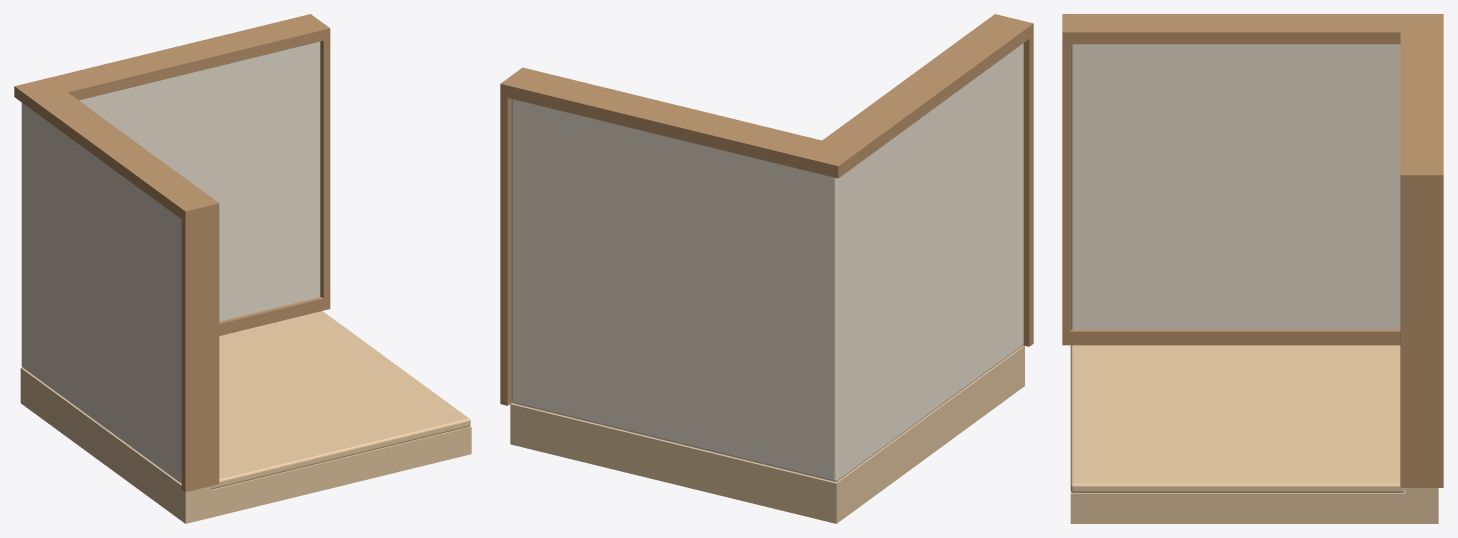
The model's file is bedroom_base.fbx.
3 views of the same model, side by side, from view 1: azimuth 30°, elevation 25°; view 2: azimuth 150°, elevation 25°; view 3: azimuth 270°, elevation 25° (orthographic). The views are drawn at different scales.
Parts seen in each view (by area): view 1: Wall_Shell, Trim, Floor, Base; view 2: Wall_Shell, Trim, Base; view 3: Wall_Shell, Floor, Trim, Base.
Part boxes in pixels (x1,y1,x2,y2): Wall_Shell: (21, 41, 320, 483); Trim: (14, 14, 330, 492); Floor: (211, 311, 470, 489); Base: (20, 367, 471, 523); Wall_Shell: (511, 43, 1023, 481); Trim: (500, 14, 1033, 405); Base: (510, 345, 1024, 523); Wall_Shell: (1070, 44, 1400, 329); Floor: (1070, 345, 1405, 492); Trim: (1062, 14, 1443, 487); Base: (1070, 345, 1438, 523).
Size of the model in its own units: 4.56 by 4.65 by 4.56.
